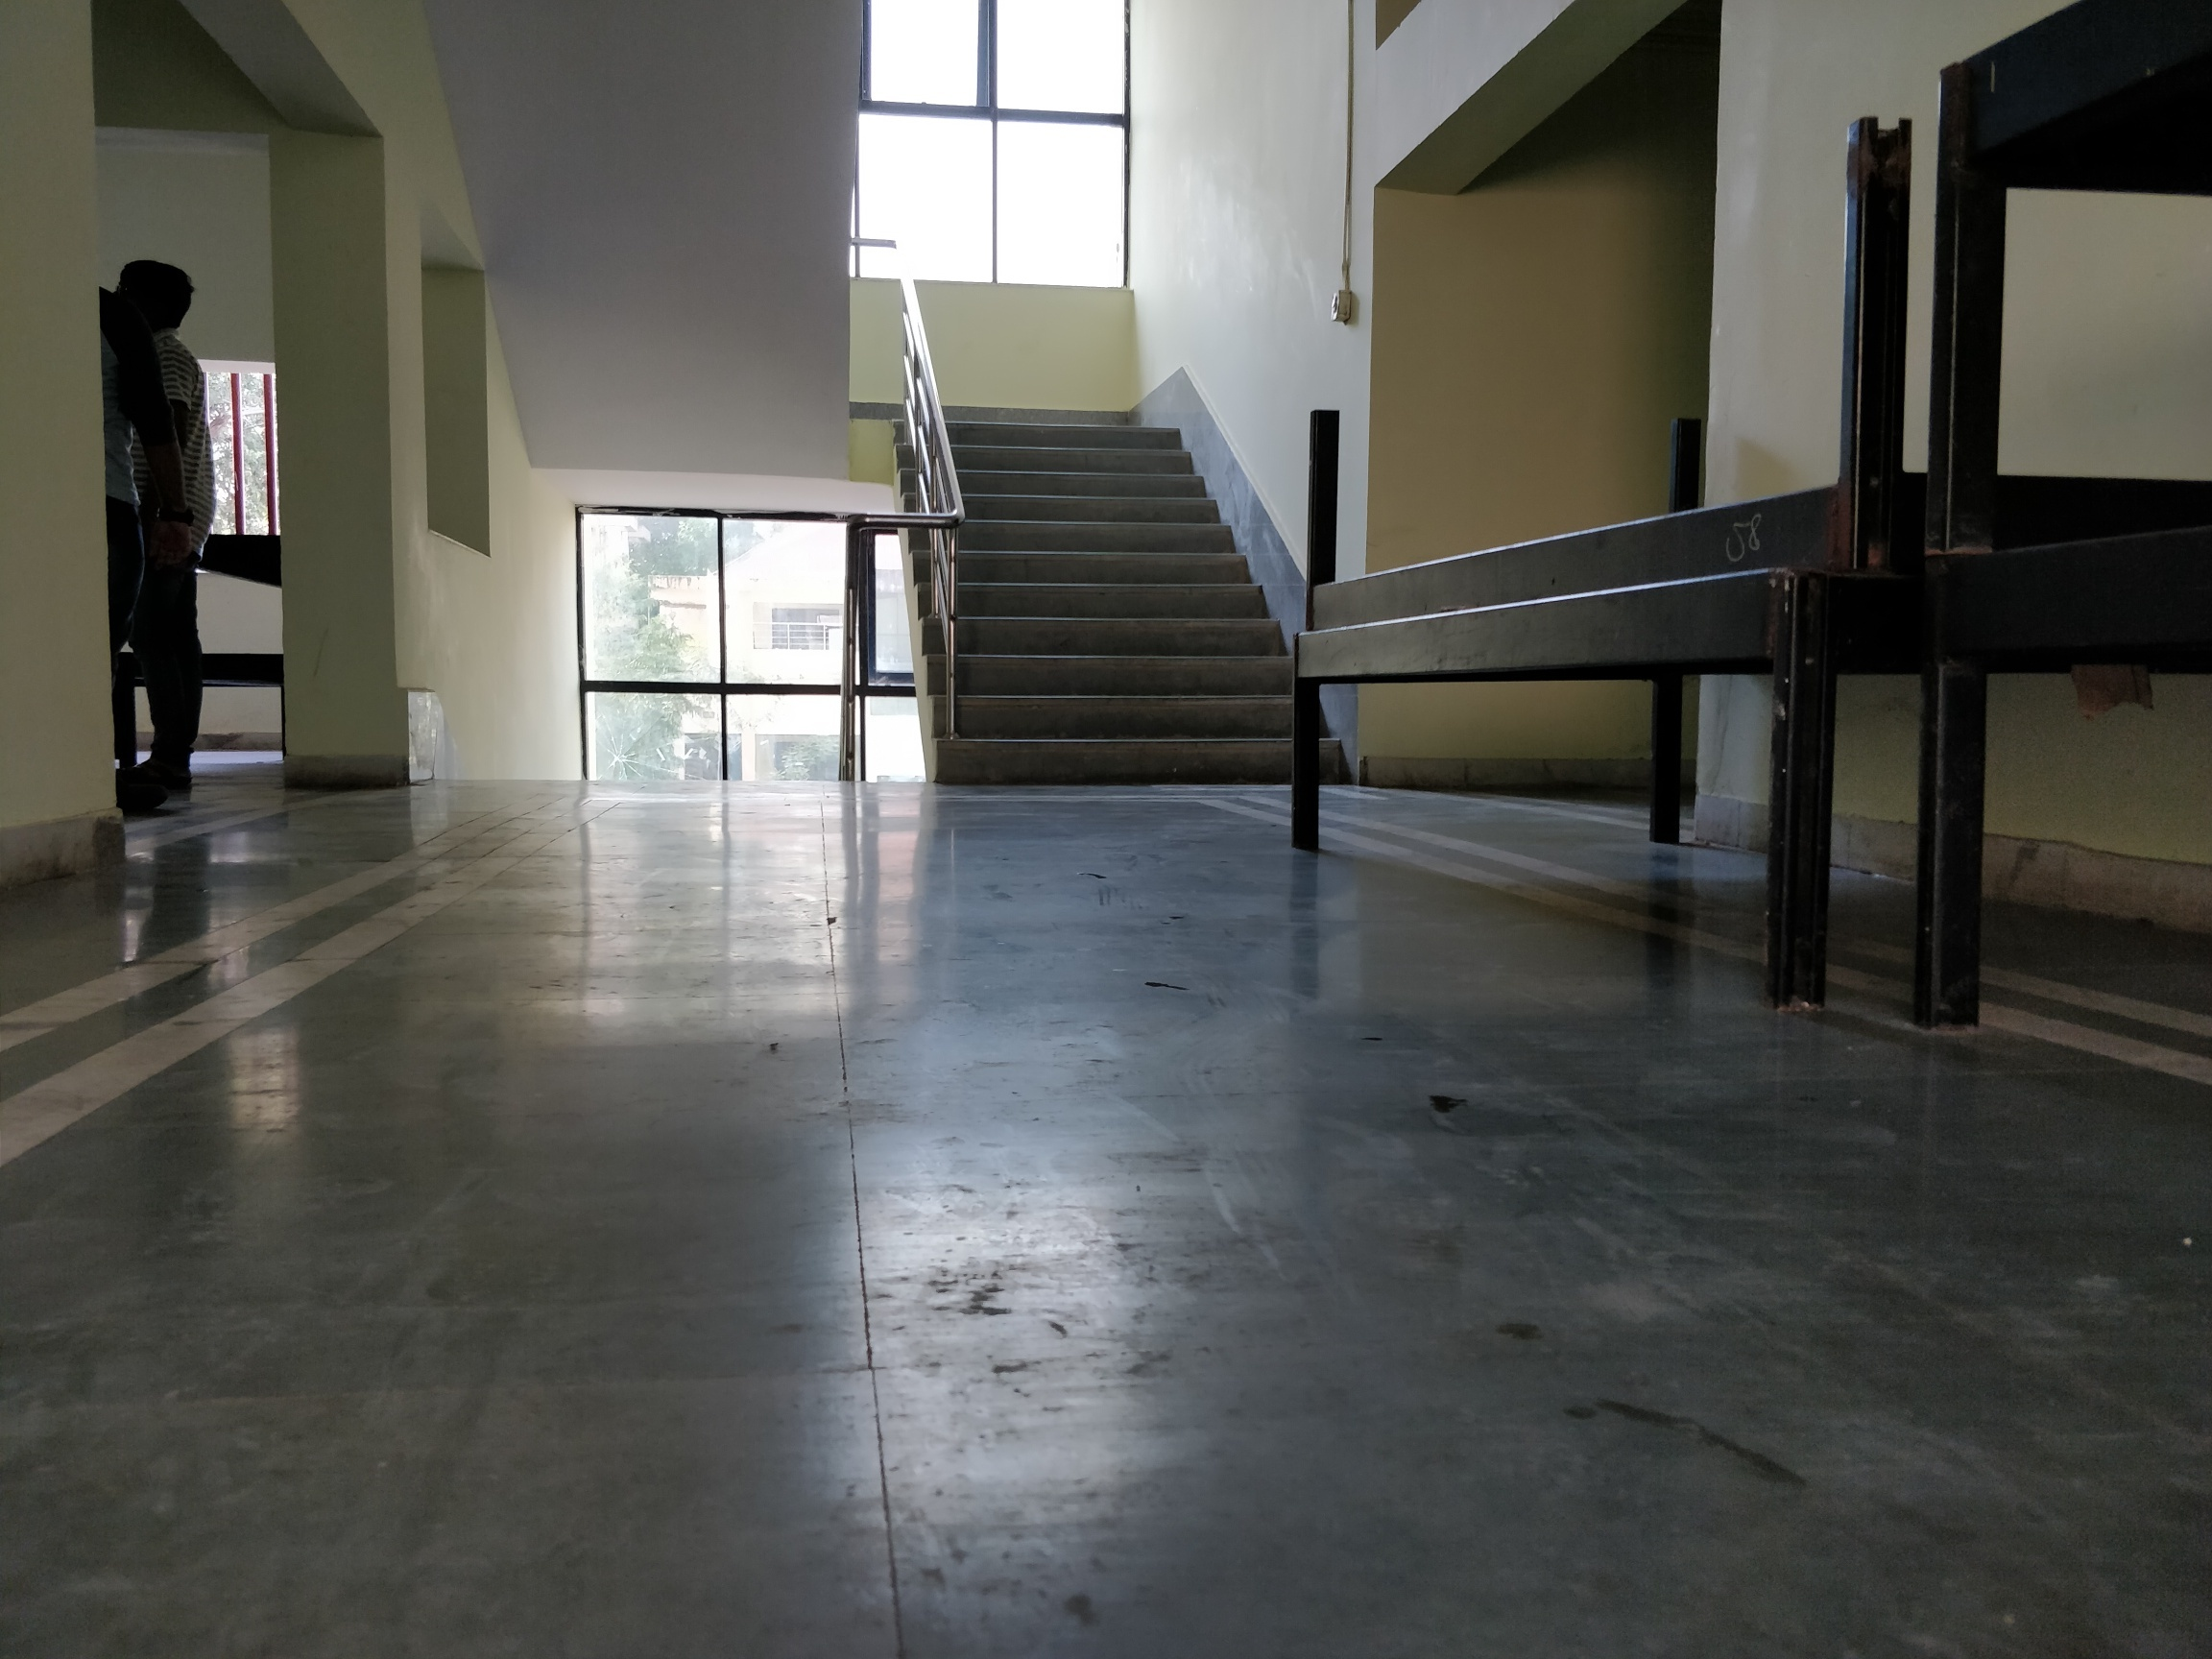stairs_up: (902, 416, 1334, 796)
